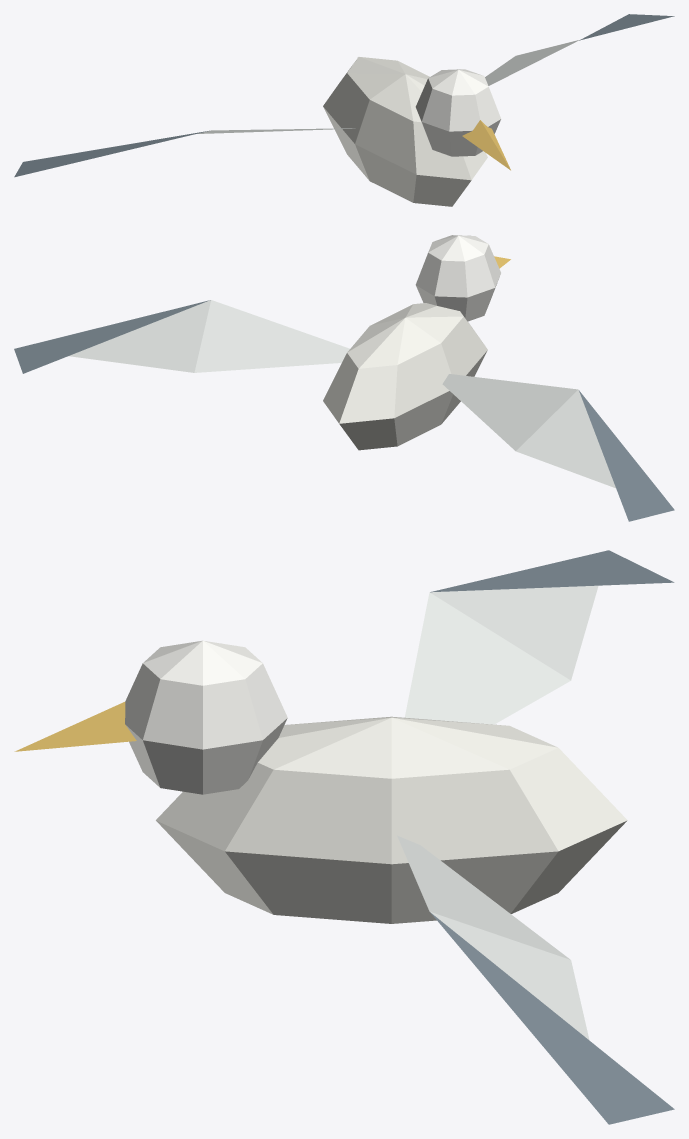
Rendered from gull.glb.
3 views of the same model, one above another, from view 1: azimuth 30°, elevation 25°; view 2: azimuth 150°, elevation 25°; view 3: azimuth 270°, elevation 25° (orthographic). The views are drawn at different scales.
Visible parts, largest first — view 1: body, head, wing_tip (×2), wing (×2), beak; view 2: wing (×2), body, wing_tip (×2), head; view 3: body, wing (×2), head, wing_tip (×2), beak.
Boxes of the visible parts, x1,y1,x2,y2 form: body: [323, 57, 487, 206]; head: [415, 69, 500, 156]; wing_tip (×2): [14, 14, 674, 177]; wing (×2): [197, 40, 579, 133]; beak: [462, 120, 510, 170]; wing (×2): [68, 300, 615, 488]; body: [323, 303, 487, 450]; wing_tip (×2): [14, 300, 674, 521]; head: [415, 235, 500, 321]; body: [156, 716, 627, 923]; wing (×2): [397, 585, 598, 1040]; head: [125, 640, 287, 794]; wing_tip (×2): [430, 550, 674, 1124]; beak: [14, 702, 136, 751].
Bounding box in the file's own units: 1.44 × 0.33 × 0.7.
